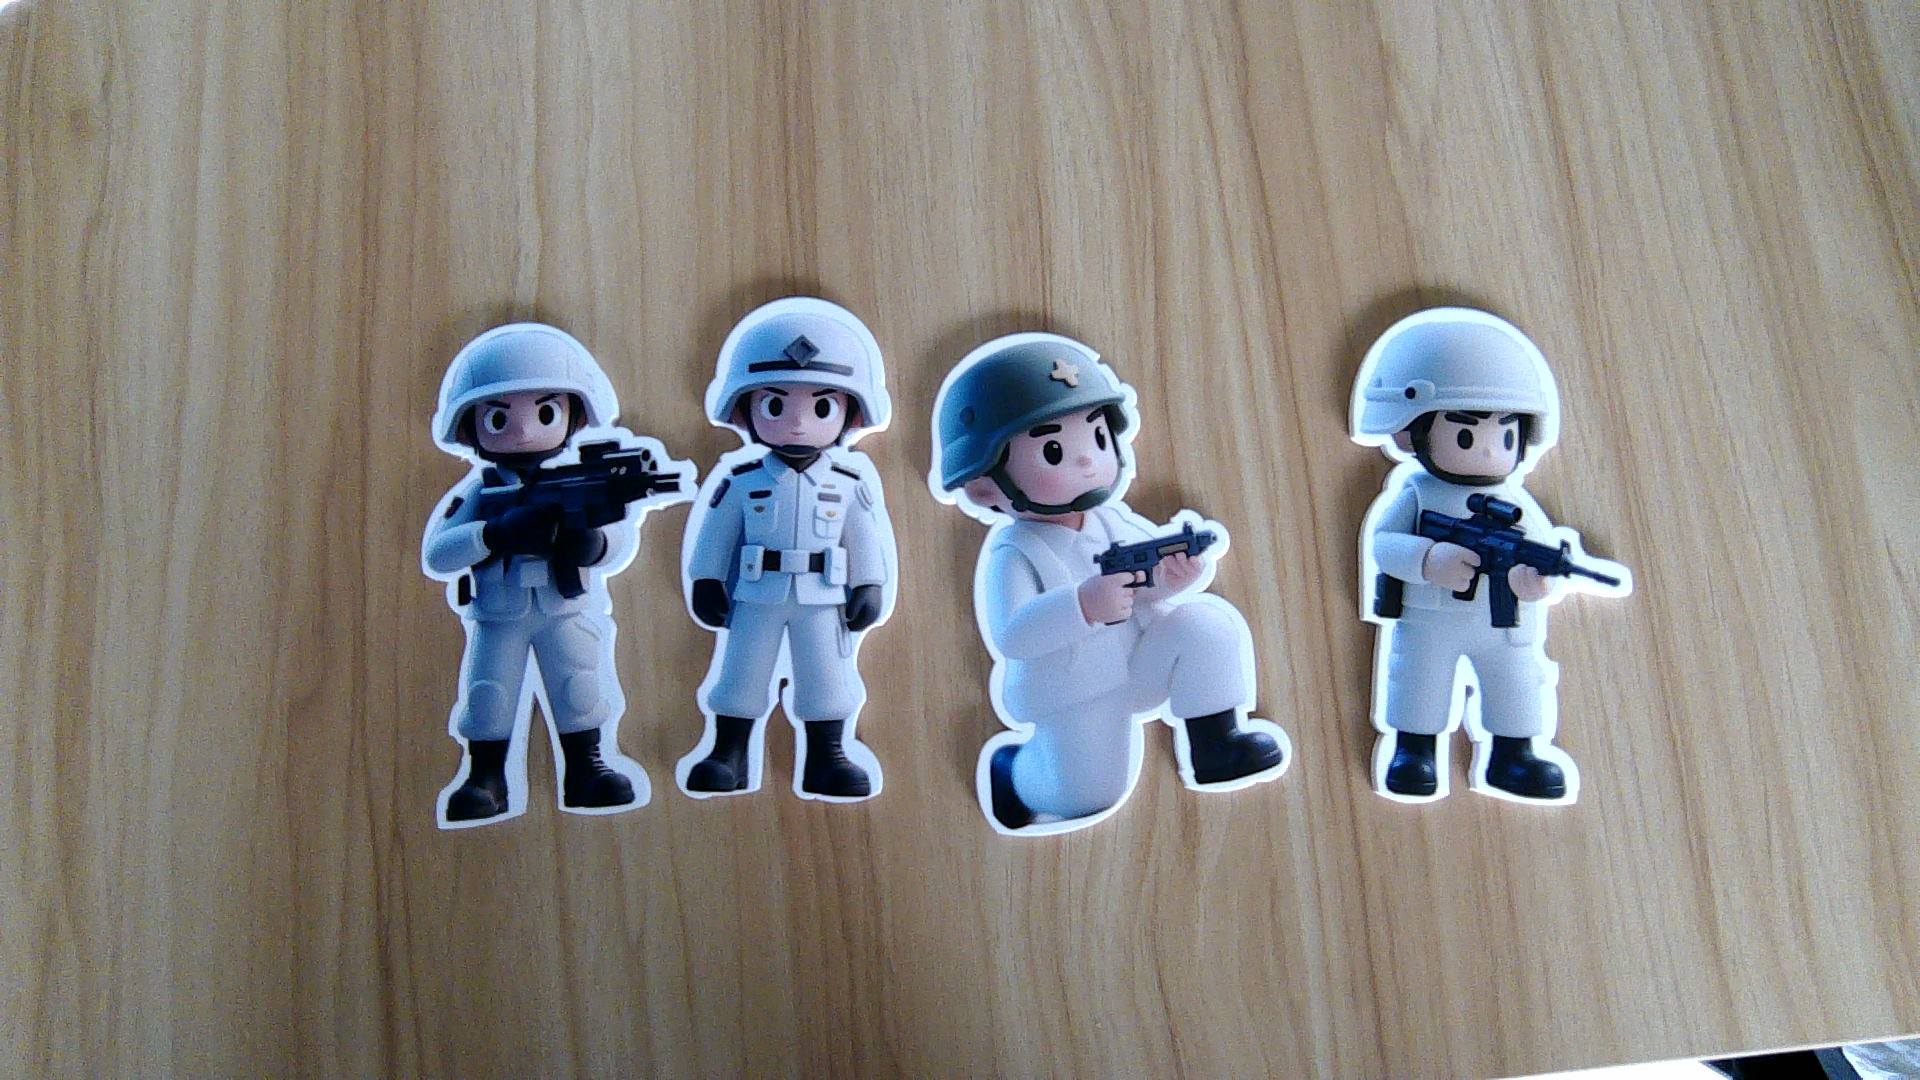人质: (959, 525, 1295, 843), (410, 459, 686, 828), (1349, 477, 1636, 816), (680, 444, 902, 810)
